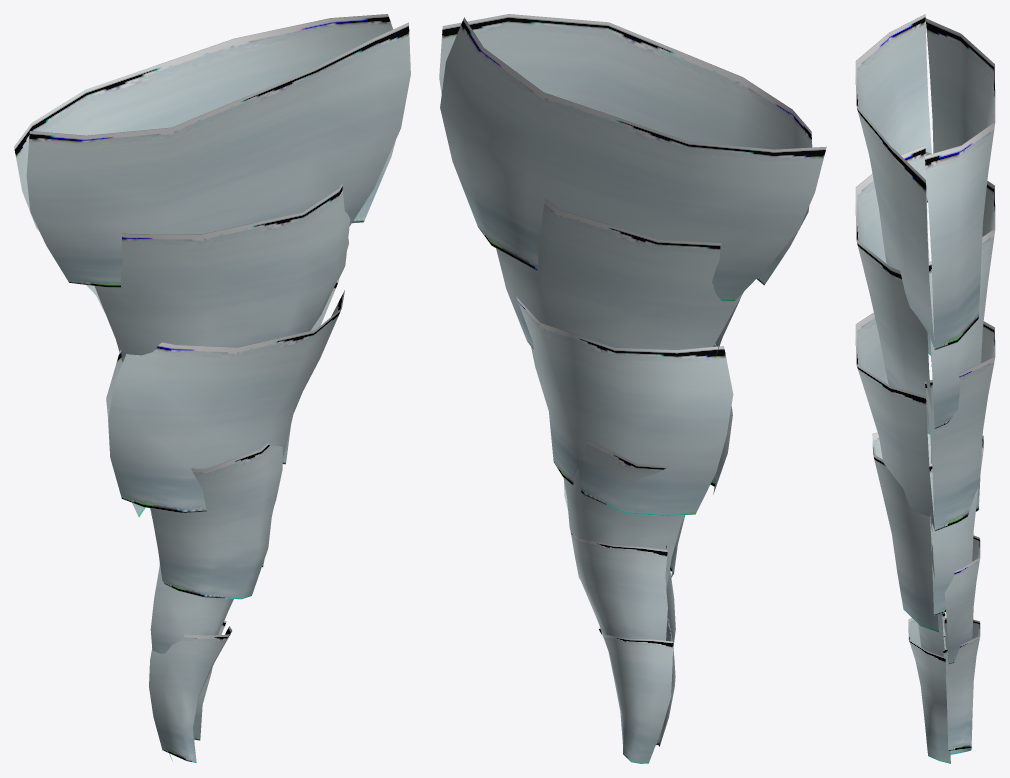
The model's file is Tornado.FBX.
3 renders of one model, left to right at view 1: azimuth 30°, elevation 25°; view 2: azimuth 150°, elevation 25°; view 3: azimuth 270°, elevation 25°, orthographic. The views are drawn at different scales.
Parts seen in each view (by area): view 1: Tornado 6, Tornado 5, Tornado 4, Tornado 3, Tornado 1, Tornado 2; view 2: Tornado 6, Tornado 4, Tornado 5, Tornado 2, Tornado 1, Tornado 3; view 3: Tornado 6, Tornado 4, Tornado 5, Tornado 3, Tornado 1, Tornado 2.
Boxes of the visible parts, x1=… form: Tornado 6: x1=14, y1=14, x2=410, y2=294; Tornado 5: x1=91, y1=183, x2=350, y2=362; Tornado 4: x1=106, y1=279, x2=344, y2=517; Tornado 3: x1=150, y1=442, x2=282, y2=599; Tornado 1: x1=149, y1=620, x2=232, y2=763; Tornado 2: x1=150, y1=563, x2=233, y2=653; Tornado 6: x1=439, y1=14, x2=826, y2=301; Tornado 4: x1=505, y1=286, x2=733, y2=516; Tornado 5: x1=496, y1=198, x2=743, y2=355; Tornado 2: x1=570, y1=529, x2=675, y2=649; Tornado 1: x1=598, y1=618, x2=675, y2=763; Tornado 3: x1=563, y1=438, x2=684, y2=588; Tornado 6: x1=855, y1=14, x2=995, y2=355; Tornado 4: x1=855, y1=312, x2=995, y2=531; Tornado 5: x1=855, y1=145, x2=995, y2=434; Tornado 3: x1=872, y1=432, x2=983, y2=632; Tornado 1: x1=908, y1=612, x2=980, y2=763; Tornado 2: x1=918, y1=535, x2=980, y2=664.
Size of the model in its own units: 670 by 208 by 1141.
